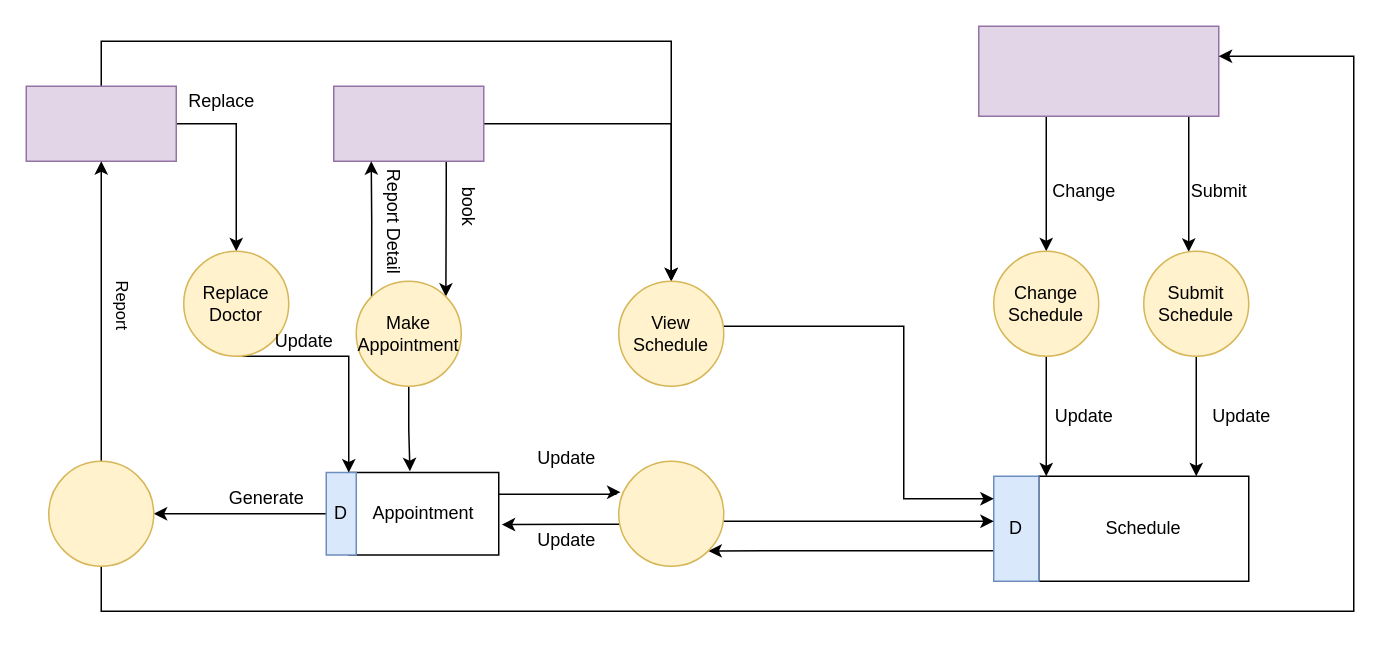
This 1392x650 diagram has some shape labels left out. Here are the shapes that lost their labels. From the top down, the box of each, then its label:
(977, 25, 1219, 116): Doctor
(25, 85, 176, 161): Nurse
(332, 85, 484, 161): Patient
(47, 460, 154, 566): Generate Report
(617, 460, 724, 566): Update Schedule
